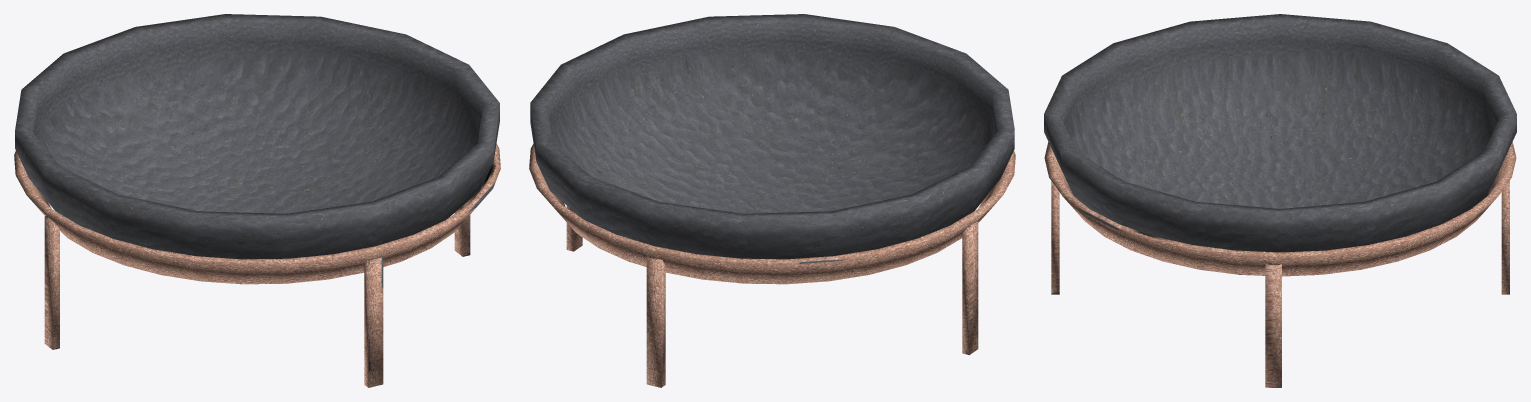
The model's file is brazier.fbx.
3 renders of one model, left to right at view 1: azimuth 30°, elevation 25°; view 2: azimuth 150°, elevation 25°; view 3: azimuth 270°, elevation 25°, orthographic. The views are drawn at different scales.
Parts seen in each view (by area): view 1: Sphere, Cylinder; view 2: Sphere, Cylinder; view 3: Sphere, Cylinder.
Part boxes in pixels (left/top/right/bottom): Sphere: left=15, top=14, right=499, bottom=259; Cylinder: left=14, top=144, right=500, bottom=387; Sphere: left=530, top=14, right=1014, bottom=259; Cylinder: left=529, top=143, right=1015, bottom=387; Sphere: left=1044, top=14, right=1516, bottom=252; Cylinder: left=1044, top=142, right=1516, bottom=387.
Bounding box in the file's own units: 213 × 88.06 × 213.
Materials: 1 (1 with a texture image).
